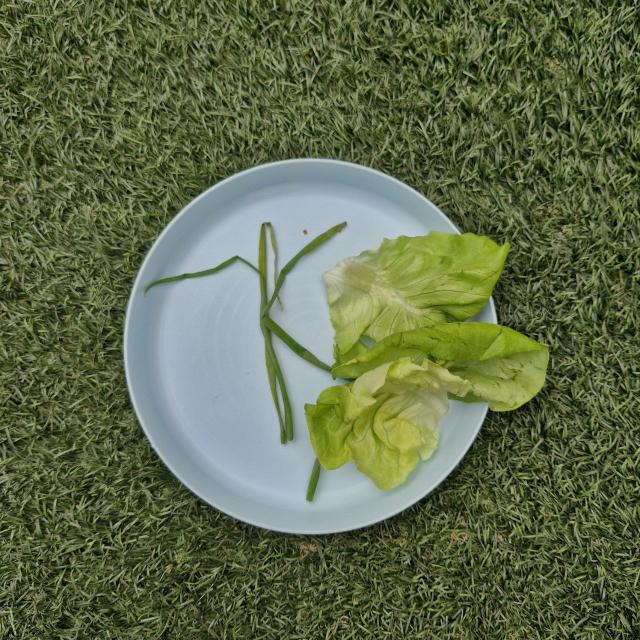food_waste: (334, 322, 550, 476), (228, 212, 328, 442), (338, 224, 508, 340)
